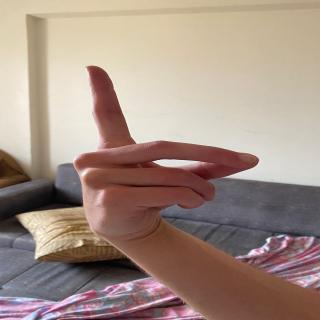TAA: (71, 66, 279, 221)
